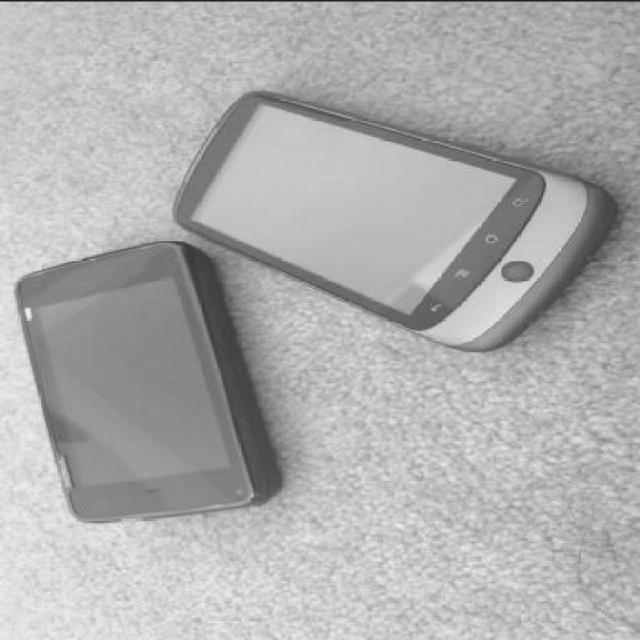fake: (180, 76, 594, 350), (14, 241, 282, 524)
